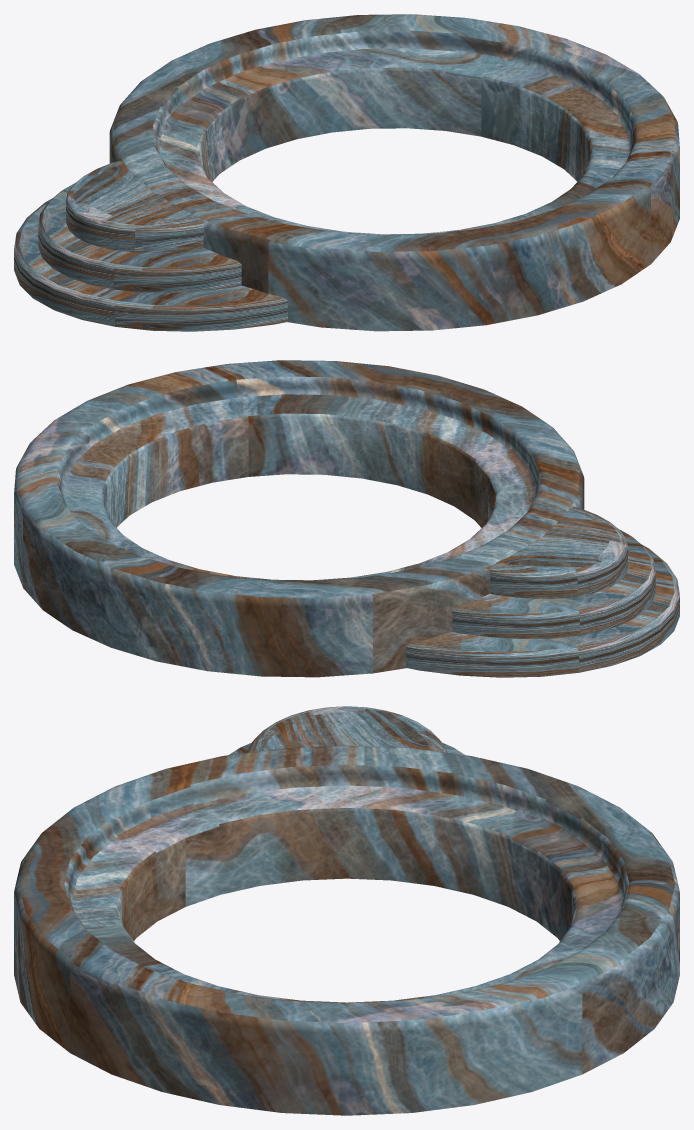
The model's file is treezone.fbx.
3 renders of one model, top to bottom at view 1: azimuth 30°, elevation 25°; view 2: azimuth 150°, elevation 25°; view 3: azimuth 270°, elevation 25°, orthographic. The views are drawn at different scales.
Visible parts, largest first — view 1: Cylinder.003; view 2: Cylinder.003; view 3: Cylinder.003.
Boxes of the visible parts, x1,y1,x2,y2 form: Cylinder.003: (14,14,679,331); Cylinder.003: (14,360,679,677); Cylinder.003: (14,706,679,1115).
Size of the model in its own units: 800 by 100 by 650.
4 materials, 4 textured.
